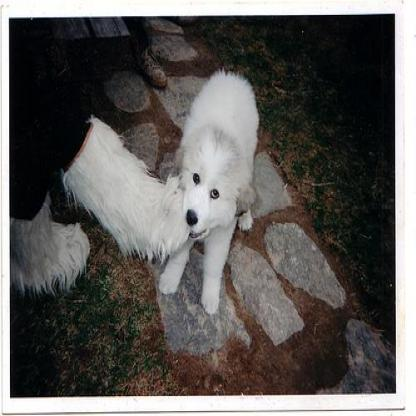Great_Pyrenees: (155, 69, 260, 315)
